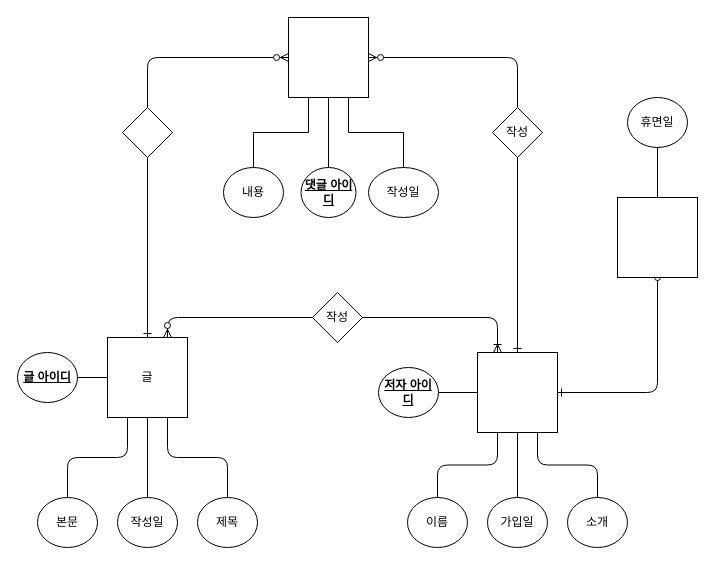
This 715x565 diagram has some shape labels left out. The centre of each missing label's shape, as x and y in pixels:
"댓글" goes at point 328,57.
"소속" goes at point 147,132.
"저자" goes at point 517,392.
"휴면자" goes at point 657,237.
